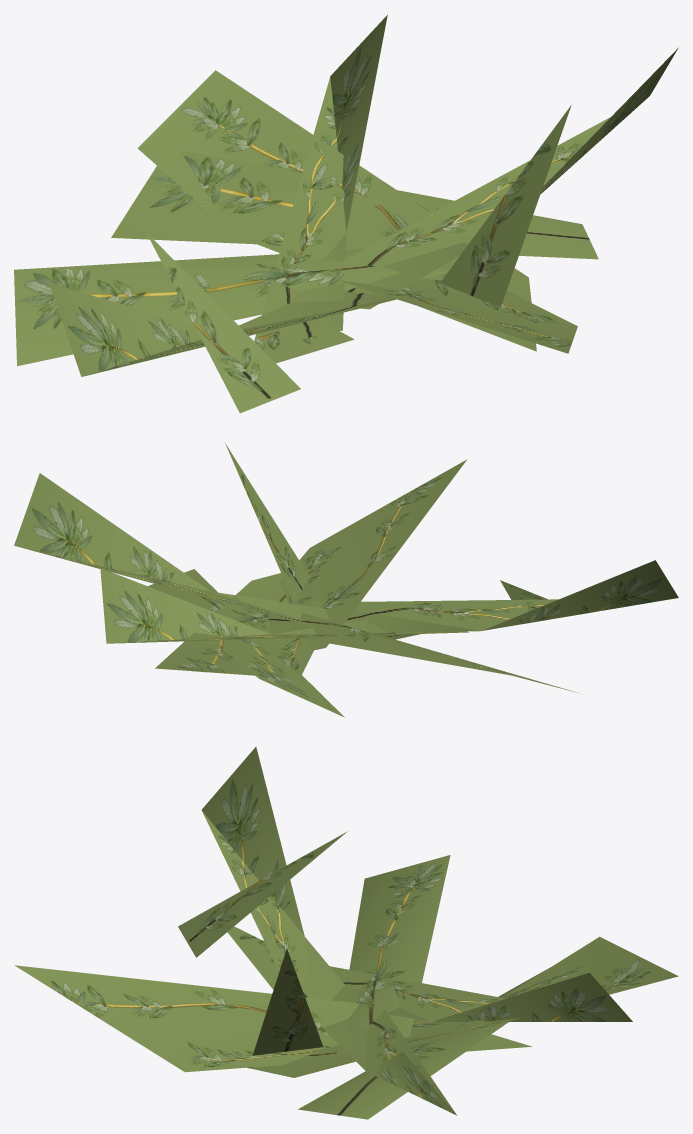
File: weedwater_lod2.fbx
3 renders of one model, top to bottom at view 1: azimuth 30°, elevation 25°; view 2: azimuth 150°, elevation 25°; view 3: azimuth 270°, elevation 25°, orthographic. The views are drawn at different scales.
Visible parts, largest first — view 1: Mesh Object; view 2: Mesh Object; view 3: Mesh Object.
Boxes of the visible parts, left/top/right/bottom form: Mesh Object: left=14, top=15, right=678, bottom=413; Mesh Object: left=14, top=443, right=678, bottom=717; Mesh Object: left=14, top=746, right=678, bottom=1119.
Bounding box in the file's own units: 3.49 × 0.891 × 3.2.
